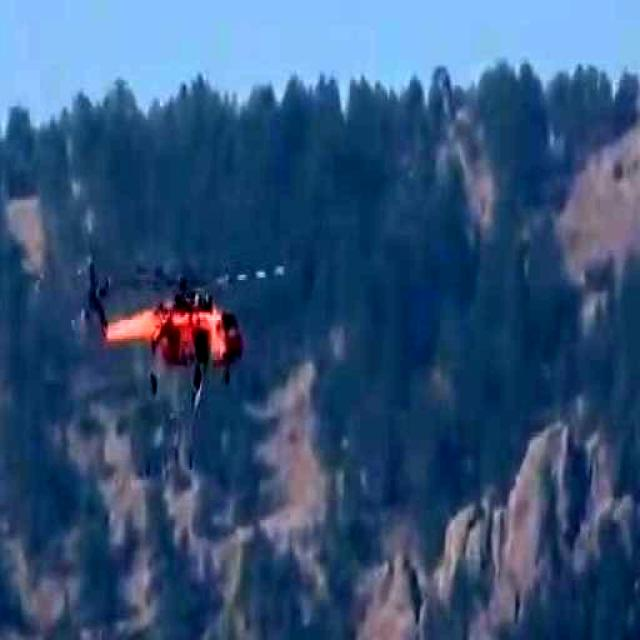drone: (82, 222, 281, 402)
